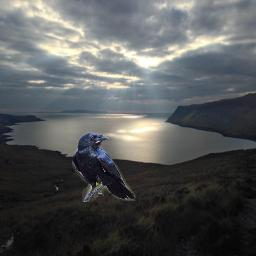Crow: (72, 132, 136, 202)
